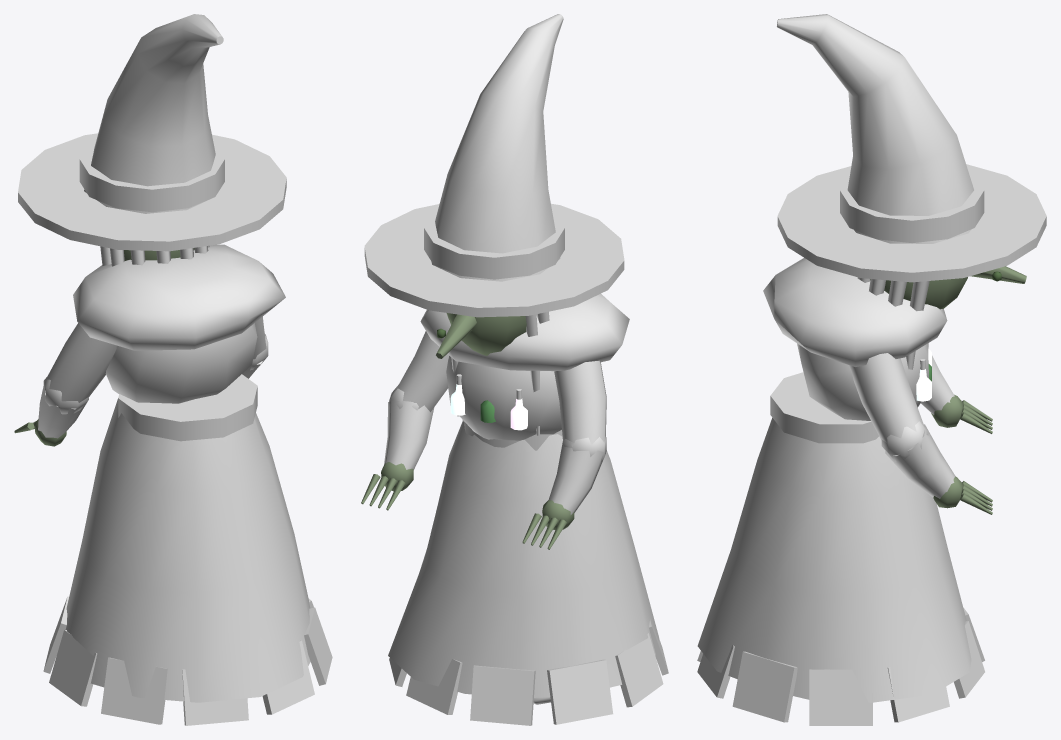
Rendered from E_BogWitch.fbx.
The picture shows the model from 3 angles, left to right: view 1: azimuth 30°, elevation 25°; view 2: azimuth 150°, elevation 25°; view 3: azimuth 270°, elevation 25°; orthographic projection. The views are drawn at different scales.
Parts seen in each view (by area): view 1: E_BogWitch__LowerTorso_robe, E_BogWitch__Head_robe_dk, E_BogWitch__UpperTorso_robe_dk, E_BogWitch__LowerTorso_robe_dk, E_BogWitch__UpperTorso_robe, E_BogWitch__LowerTorso_rope, E_BogWitch__Head_cloth_green, E_BogWitch__LeftUpperArm_robe, E_BogWitch__LeftLowerArm_robe, E_BogWitch__Head_hair; view 2: E_BogWitch__LowerTorso_robe, E_BogWitch__Head_robe_dk, E_BogWitch__LowerTorso_robe_dk, E_BogWitch__UpperTorso_robe_dk, E_BogWitch__UpperTorso_robe, E_BogWitch__Head_cloth_green, E_BogWitch__LeftUpperArm_robe, E_BogWitch__LeftLowerArm_robe, E_BogWitch__RightLowerArm_robe, E_BogWitch__Head_skin_witch, E_BogWitch__RightUpperArm_robe, E_BogWitch__RightLowerArm_skin_witch (+3 smaller); view 3: E_BogWitch__LowerTorso_robe, E_BogWitch__Head_robe_dk, E_BogWitch__UpperTorso_robe_dk, E_BogWitch__LowerTorso_robe_dk, E_BogWitch__Head_cloth_green, E_BogWitch__LowerTorso_rope, E_BogWitch__RightUpperArm_robe, E_BogWitch__UpperTorso_robe, E_BogWitch__RightLowerArm_robe, E_BogWitch__Head_skin_witch, E_BogWitch__Head_hair, E_BogWitch__LeftLowerArm_skin_witch (+2 smaller).
Boxes of the visible parts, x1,y1,x2,y2 form: E_BogWitch__LowerTorso_robe: (65,398,310,702); E_BogWitch__Head_robe_dk: (18,14,286,251); E_BogWitch__UpperTorso_robe_dk: (73,244,285,350); E_BogWitch__LowerTorso_robe_dk: (43,596,332,725); E_BogWitch__UpperTorso_robe: (105,323,257,403); E_BogWitch__LowerTorso_rope: (118,374,257,441); E_BogWitch__Head_cloth_green: (79,141,224,212); E_BogWitch__LeftUpperArm_robe: (46,323,116,402); E_BogWitch__LeftLowerArm_robe: (38,377,88,438); E_BogWitch__Head_hair: (100,245,209,266); E_BogWitch__LowerTorso_robe: (388,421,659,697); E_BogWitch__Head_robe_dk: (364,14,624,317); E_BogWitch__LowerTorso_robe_dk: (389,620,668,725); E_BogWitch__UpperTorso_robe_dk: (420,293,629,371); E_BogWitch__UpperTorso_robe: (446,356,561,440); E_BogWitch__Head_cloth_green: (424,211,564,279); E_BogWitch__LeftUpperArm_robe: (554,360,606,444); E_BogWitch__LeftLowerArm_robe: (548,436,606,514); E_BogWitch__RightLowerArm_robe: (384,384,434,469); E_BogWitch__Head_skin_witch: (436,313,526,358); E_BogWitch__RightUpperArm_robe: (394,331,449,411); E_BogWitch__RightLowerArm_skin_witch: (361,462,413,510); E_BogWitch__LowerTorso_robe: (697,418,971,702); E_BogWitch__Head_robe_dk: (777,14,1046,282); E_BogWitch__UpperTorso_robe_dk: (763,258,947,366); E_BogWitch__LowerTorso_robe_dk: (697,608,984,725); E_BogWitch__Head_cloth_green: (840,172,984,243); E_BogWitch__LowerTorso_rope: (770,372,878,443); E_BogWitch__RightUpperArm_robe: (849,353,924,442); E_BogWitch__UpperTorso_robe: (797,343,928,420); E_BogWitch__RightLowerArm_robe: (881,421,955,498); E_BogWitch__Head_skin_witch: (870,266,1026,309); E_BogWitch__Head_hair: (857,277,929,369); E_BogWitch__LeftLowerArm_skin_witch: (931,394,992,433).
Bounding box in the file's own units: 3.98 × 10.3 × 4.93.
